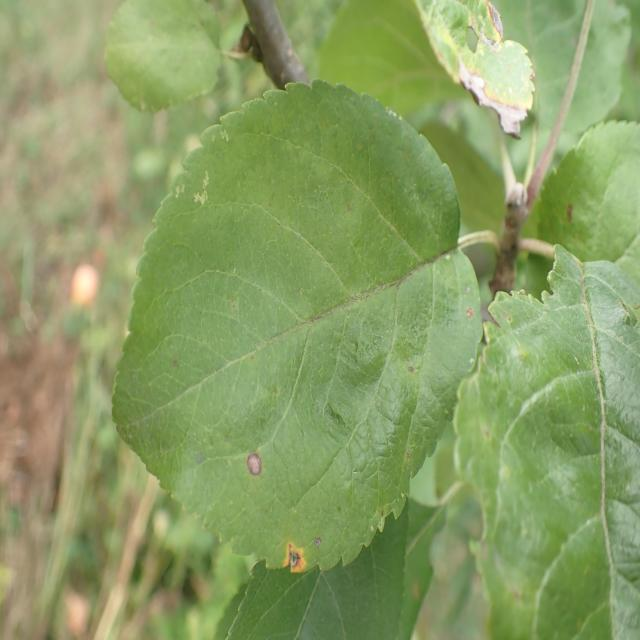frog-eye-leaf-spot: (112, 77, 484, 574)
